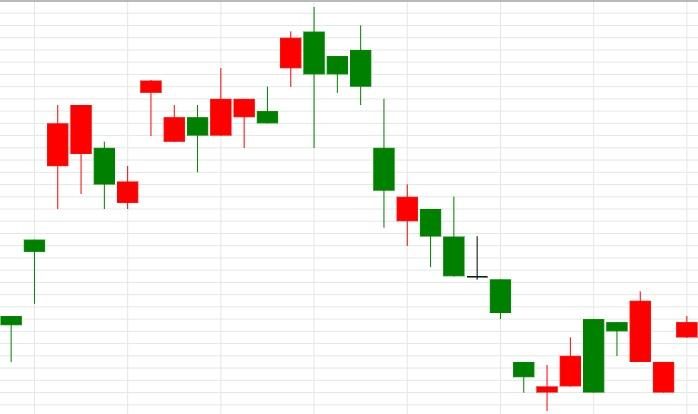bearish_engulfing_fall: (163, 7, 326, 172)
